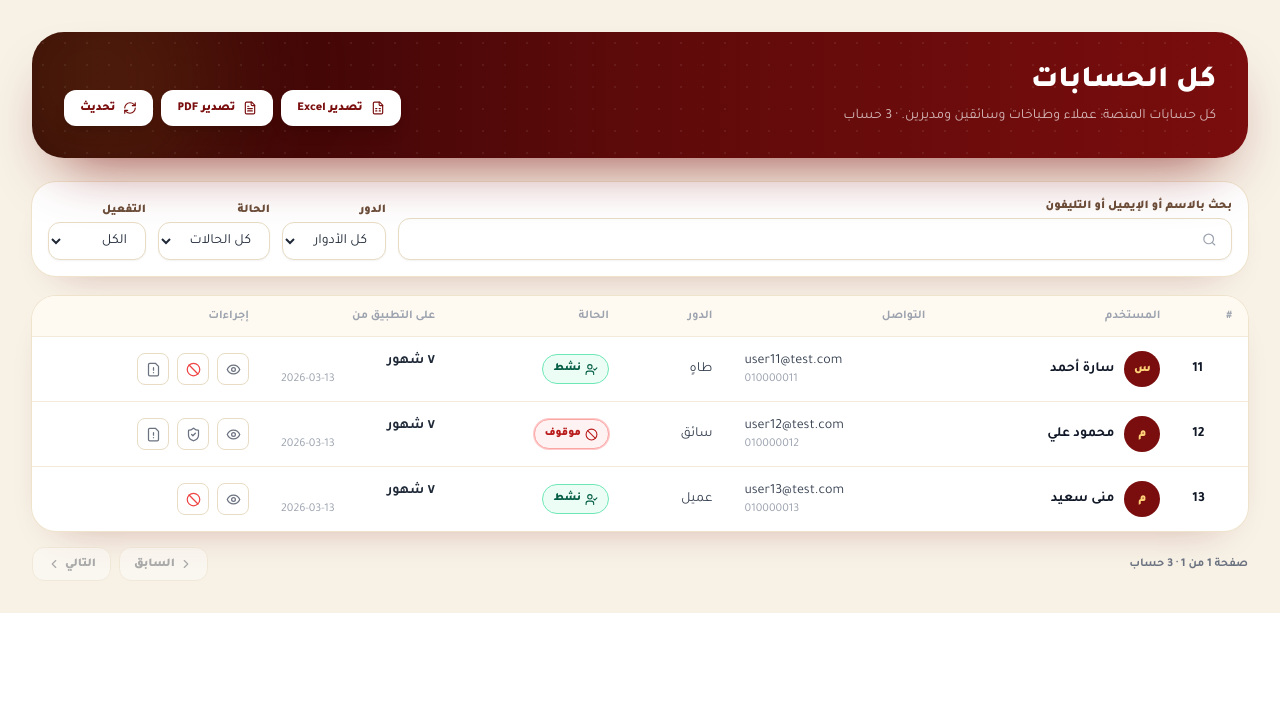
Test case: Users — issue a warning letter › writes a letter named after the person, opens the print dialog, and confirms
expect the button "م محمود علي" is shown: met, box x1=1047 y1=416 x2=1160 y2=452
Click the button named "إصدار إنذار: محمود علي" at [153, 434], box x1=137 y1=418 x2=169 y2=450
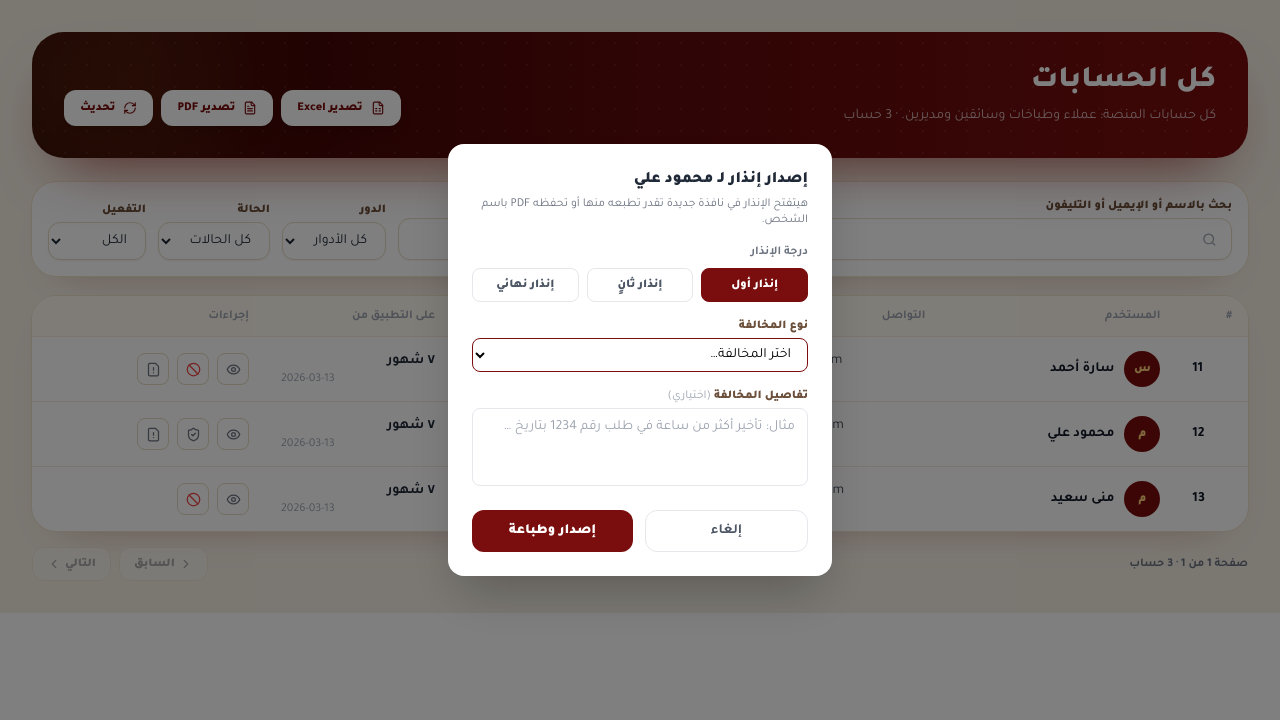
Click the radio button labelled "إنذار نهائي" at [525, 285], box x1=472 y1=268 x2=579 y2=302
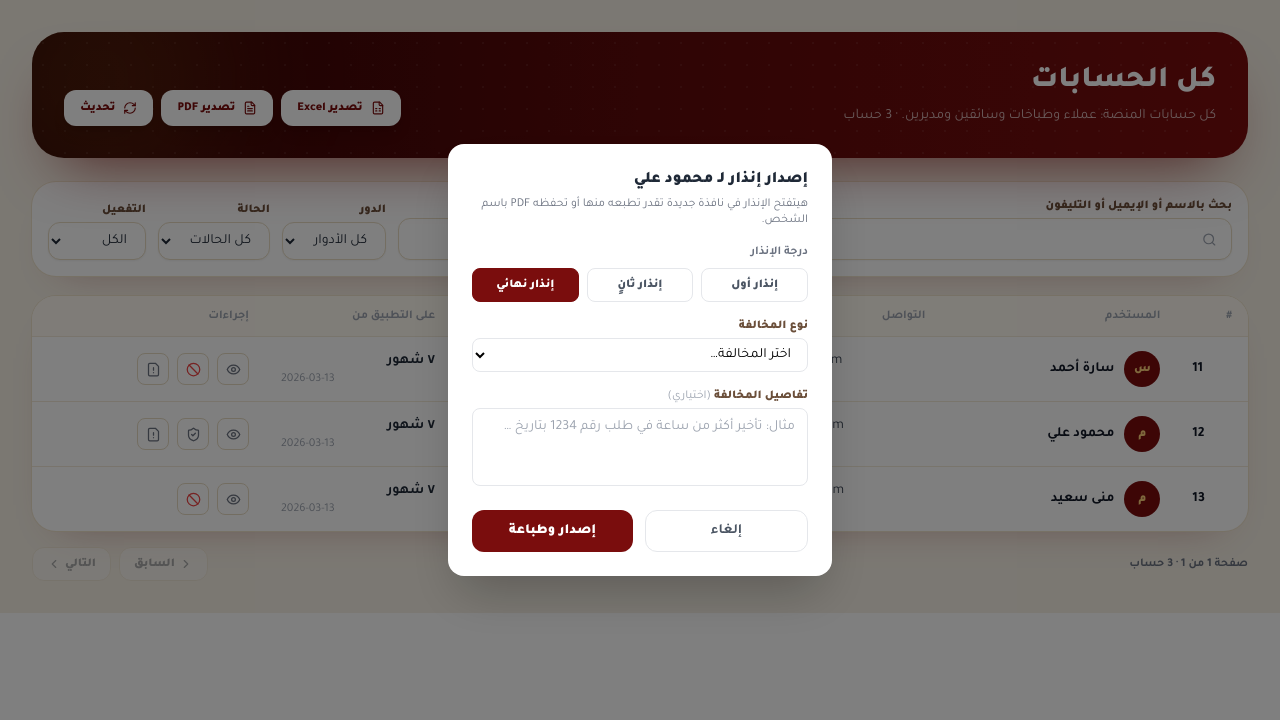
Select "التأخير في توصيل الطلبات" in the dropdown labelled "نوع المخالفة" at [640, 355], box x1=472 y1=338 x2=808 y2=372
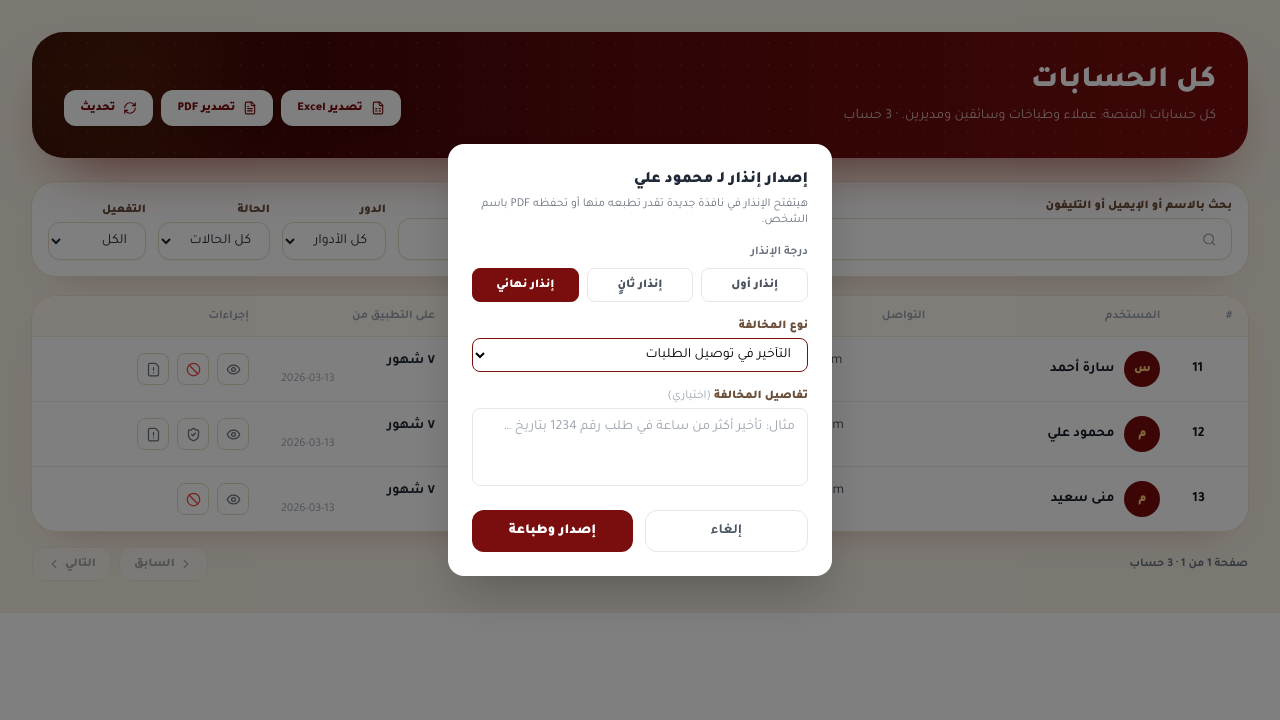
Type "طلب 5521" into the text box labelled "تفاصيل المخالفة (اختياري)" at [640, 447], box x1=472 y1=408 x2=808 y2=486
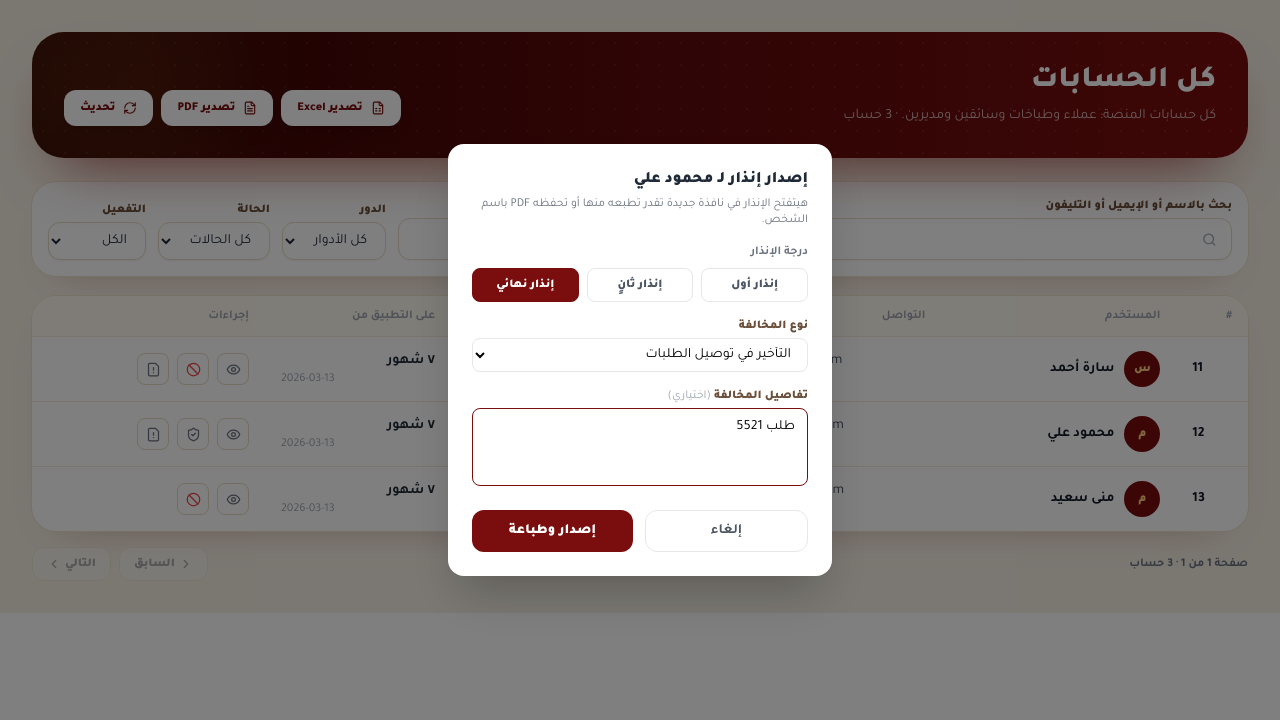
Click the button "إصدار وطباعة" at [552, 531], box x1=472 y1=510 x2=633 y2=552
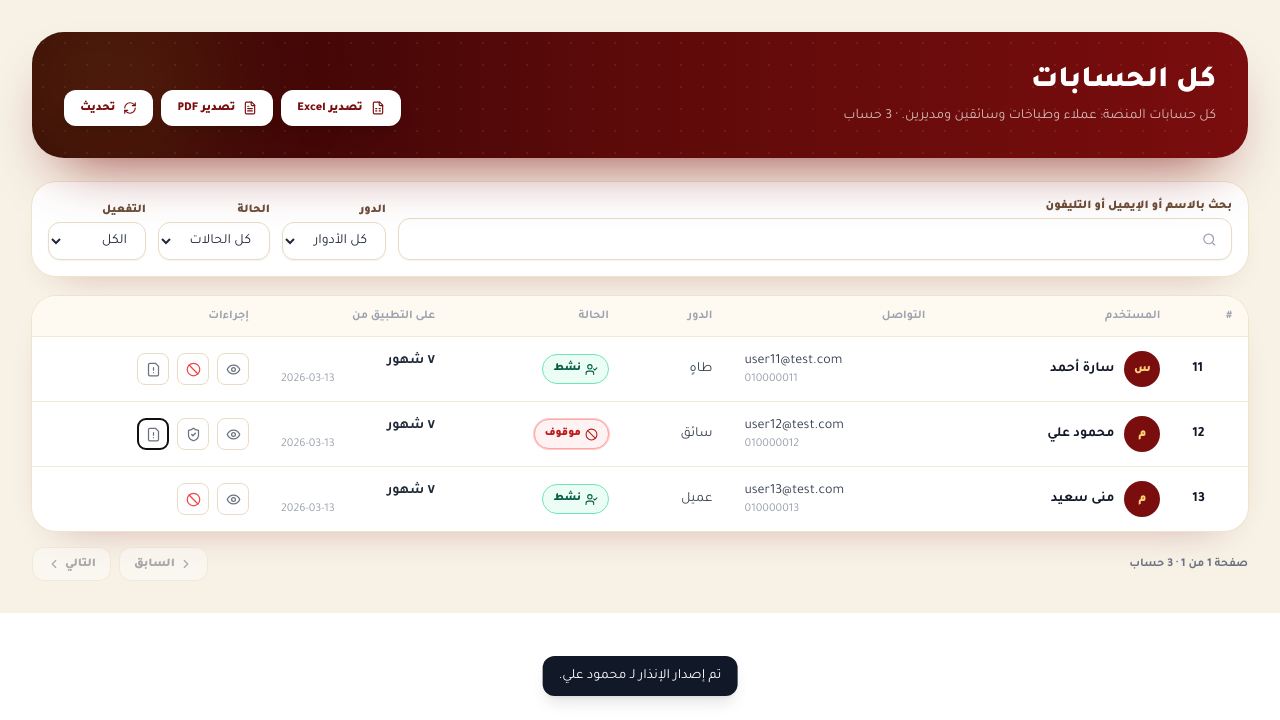
expect the dialog is gone: met
